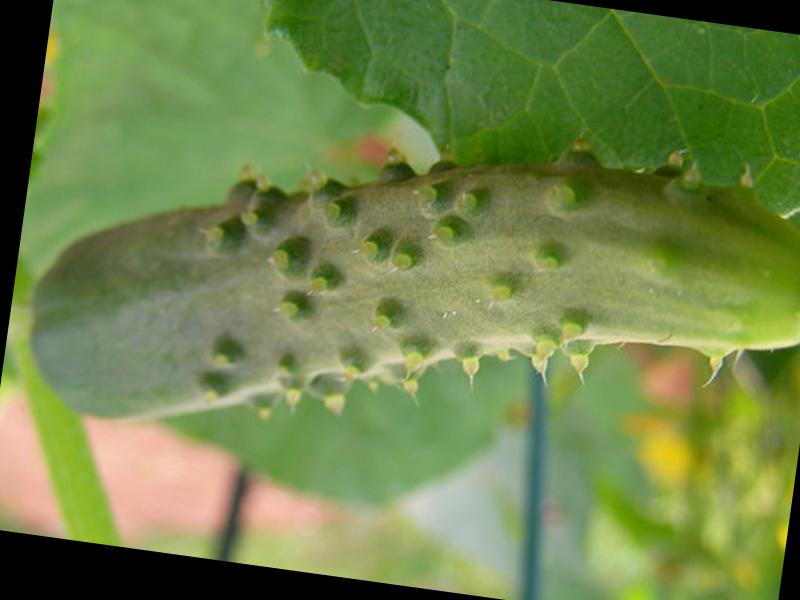Cucumber: (14, 79, 800, 511)
